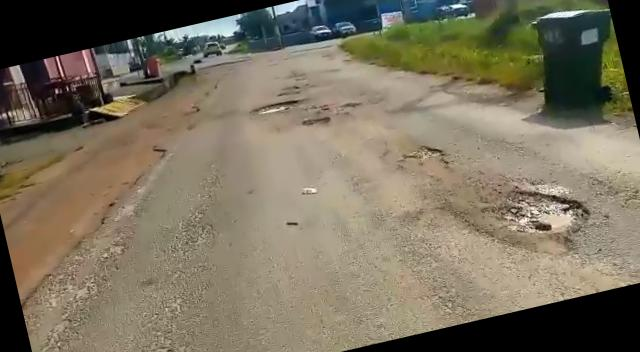pothole: (483, 167, 598, 252), (394, 142, 450, 180), (248, 96, 302, 118), (300, 111, 337, 129)
